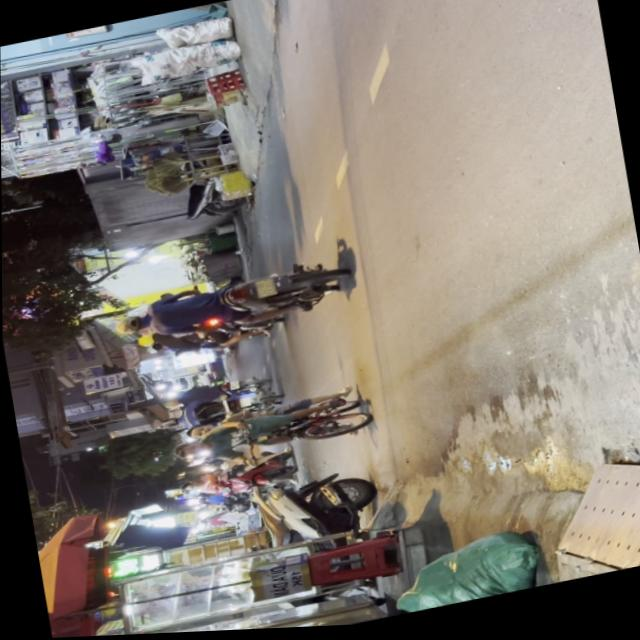licenseplate: (105, 255, 351, 354)
motorcyclist: (110, 313, 146, 337)
nohelmet: (252, 279, 275, 301)
